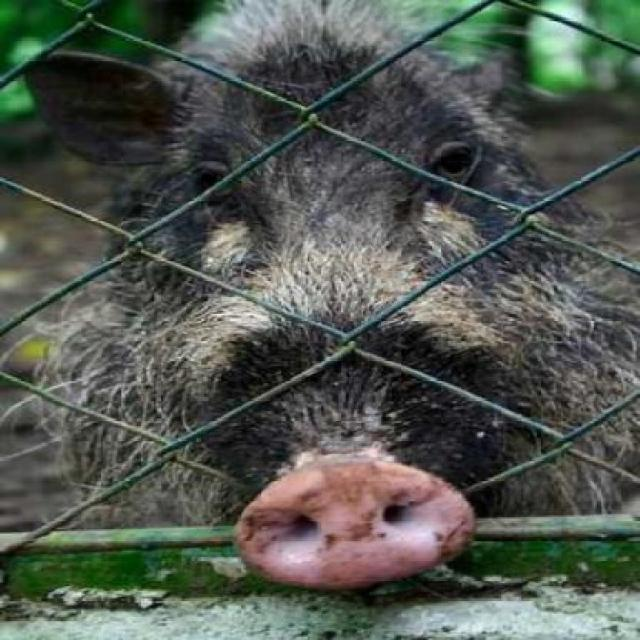WildBoar: (16, 0, 639, 591)
